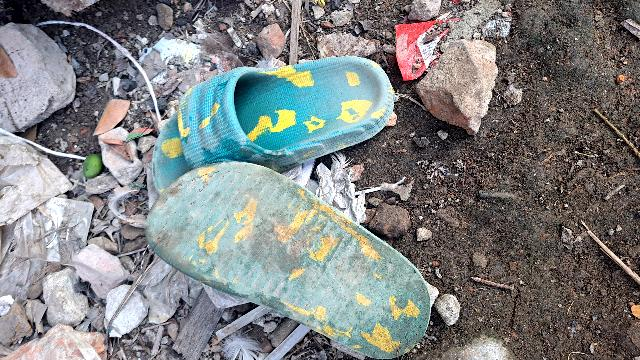sandal: (155, 146, 453, 360), (135, 56, 397, 186)
